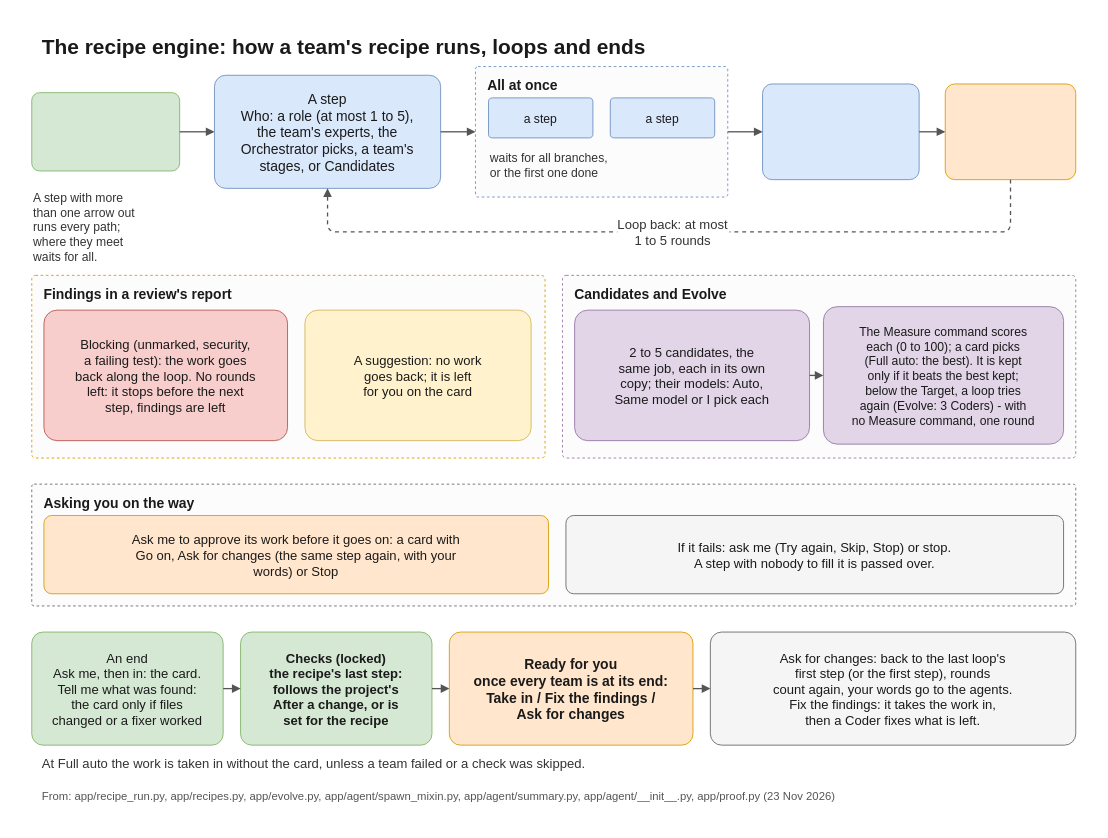
Some shapes in this 1108 by 838 pixel diagram are drawn without their labels. The shapes that lost their labels are listed below. From the top down, each one's centre as x and y in pixels, then its label:
At point (105, 131): "Start one working copy for the team".
At point (840, 131): "A review step Done when: no finding is left (a review)".
At point (1010, 131): "Only if the step before found a problem: a fixer".
